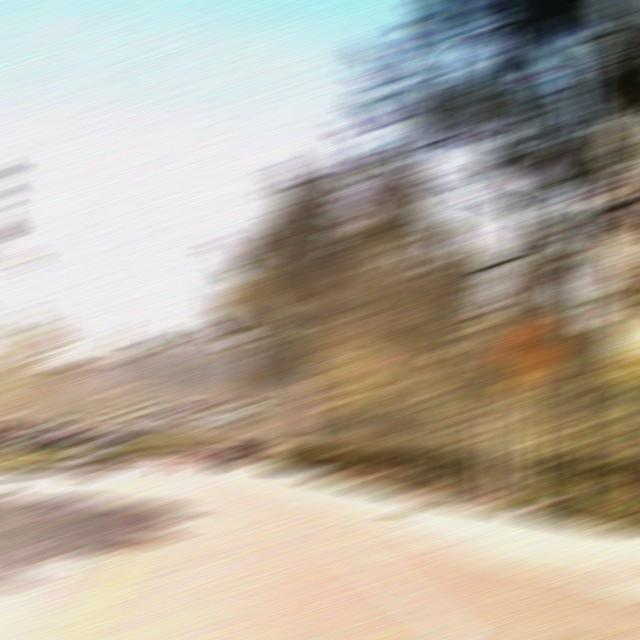stop_sign: (302, 395, 334, 417)
